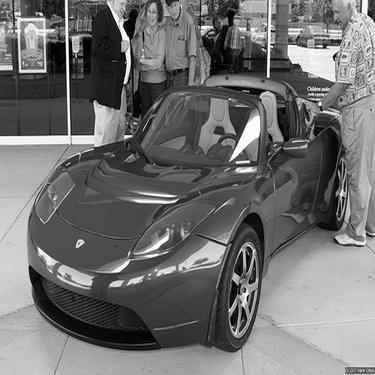car: (20, 71, 356, 354), (244, 19, 284, 50), (293, 22, 330, 49)
